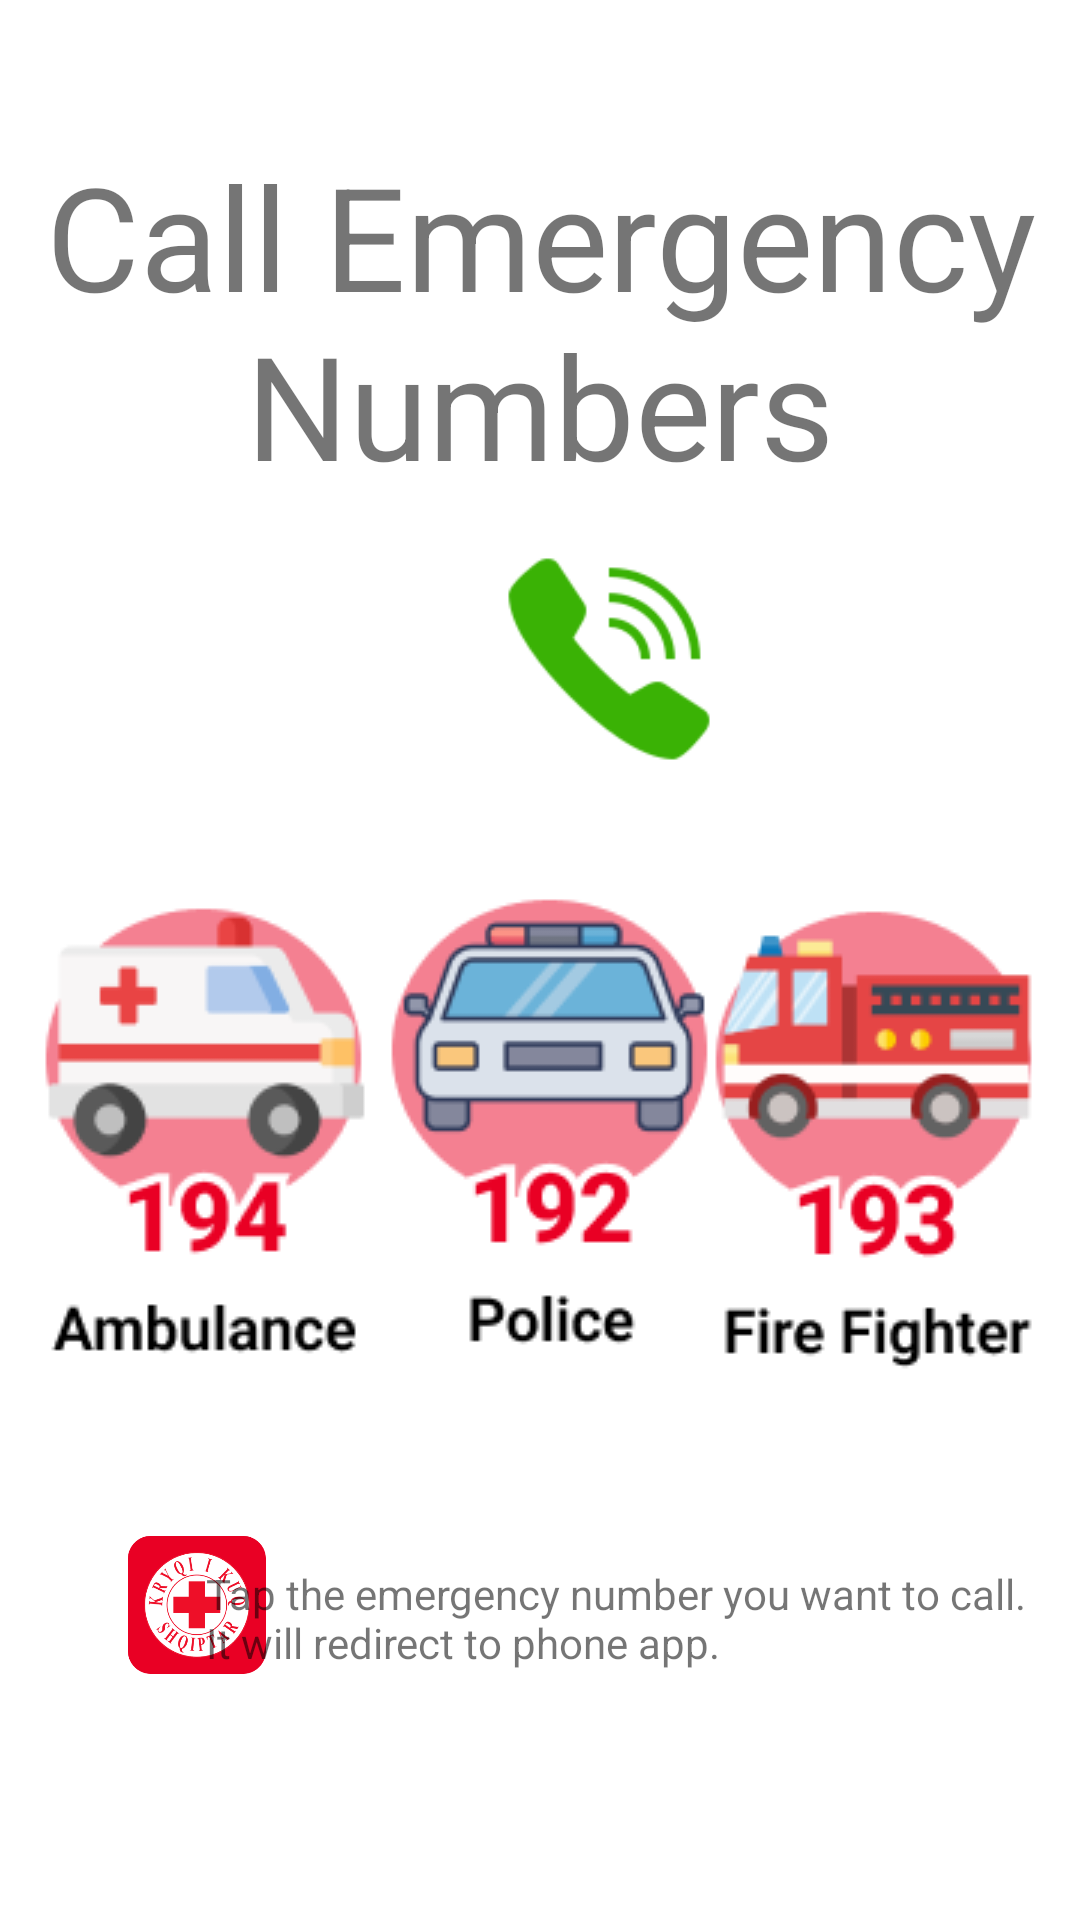

Screen size 1080×1920. Icon name, then its center in pixels as (x=x, y=y):
callphone: (x=609, y=659)
